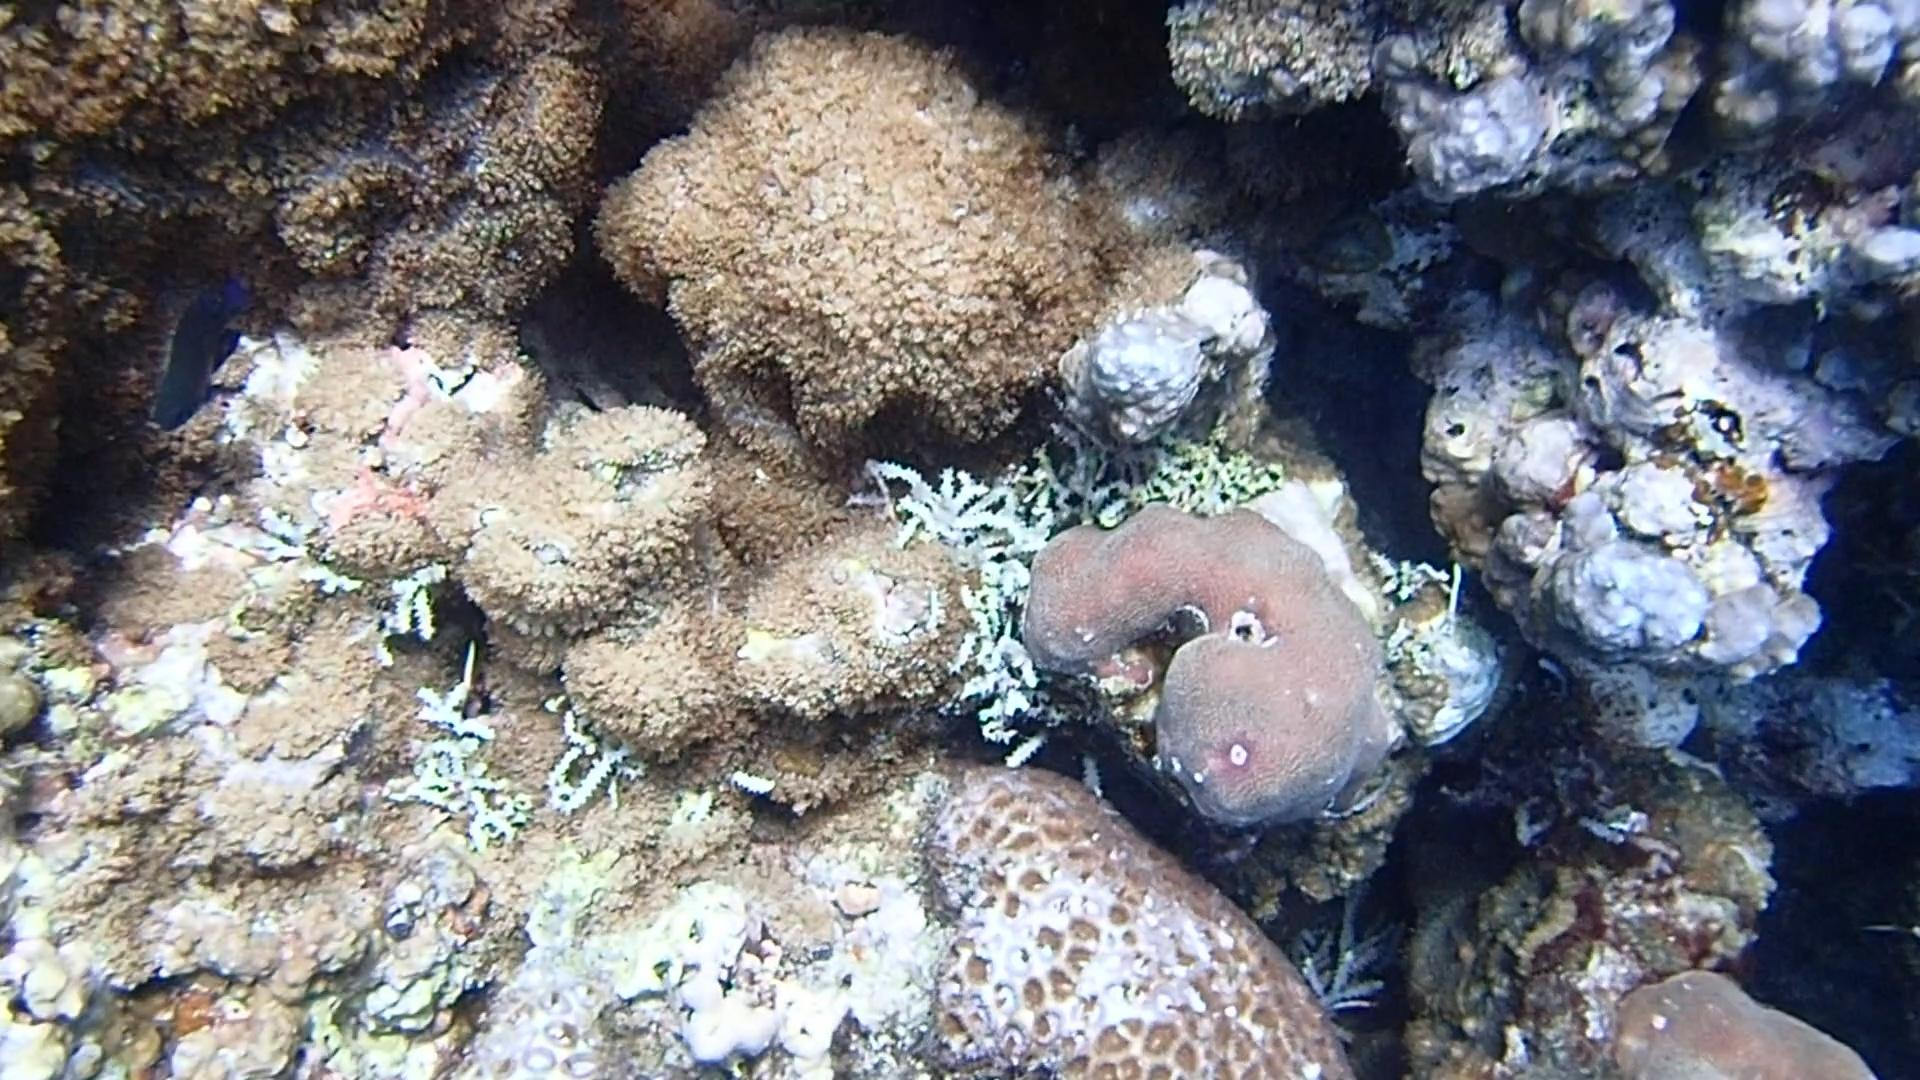Dark Fish: (144, 276, 255, 436)
